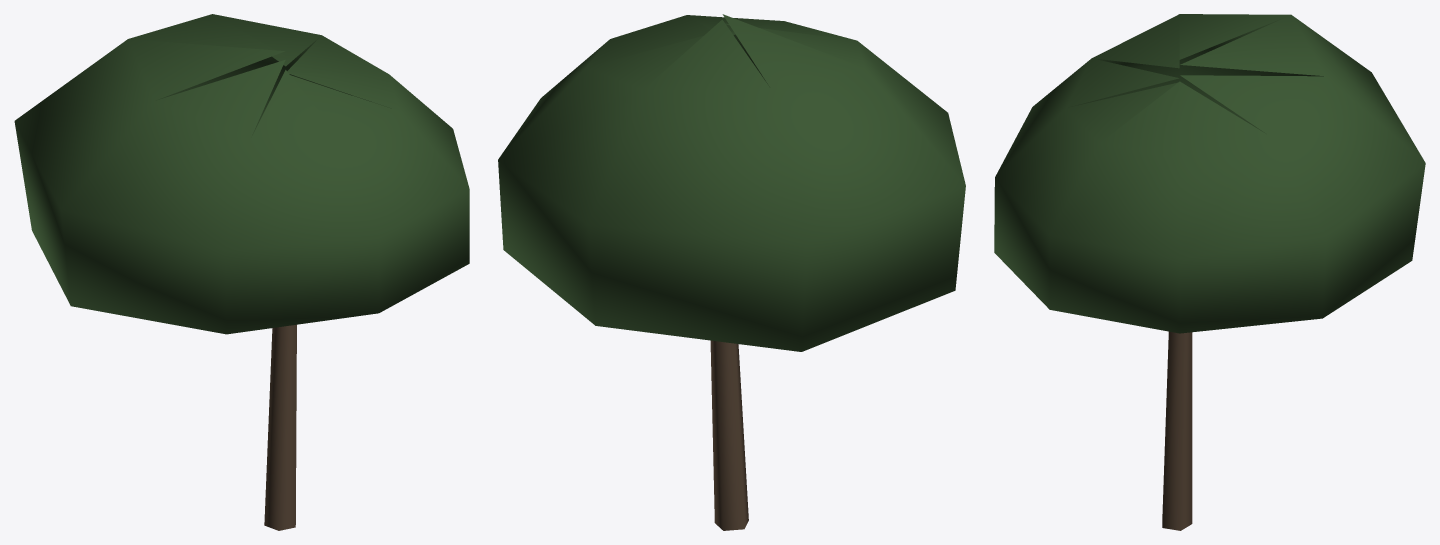
The model's file is broadleaf-far.glb.
The picture shows the model from 3 angles, left to right: view 1: azimuth 30°, elevation 25°; view 2: azimuth 150°, elevation 25°; view 3: azimuth 270°, elevation 25°; orthographic projection. The views are drawn at different scales.
Parts seen in each view (by area): view 1: broadleaf-far-broadleaf, broadleaf-far-tree-bark; view 2: broadleaf-far-broadleaf, broadleaf-far-tree-bark; view 3: broadleaf-far-broadleaf, broadleaf-far-tree-bark.
Boxes of the visible parts, bbox=[...] form: broadleaf-far-broadleaf: bbox=[14, 14, 469, 334]; broadleaf-far-tree-bark: bbox=[264, 324, 296, 530]; broadleaf-far-broadleaf: bbox=[498, 14, 965, 351]; broadleaf-far-tree-bark: bbox=[710, 340, 748, 530]; broadleaf-far-broadleaf: bbox=[994, 14, 1425, 333]; broadleaf-far-tree-bark: bbox=[1162, 331, 1192, 530].
Bounding box in the file's own units: 5.44 × 6.25 × 5.22.
